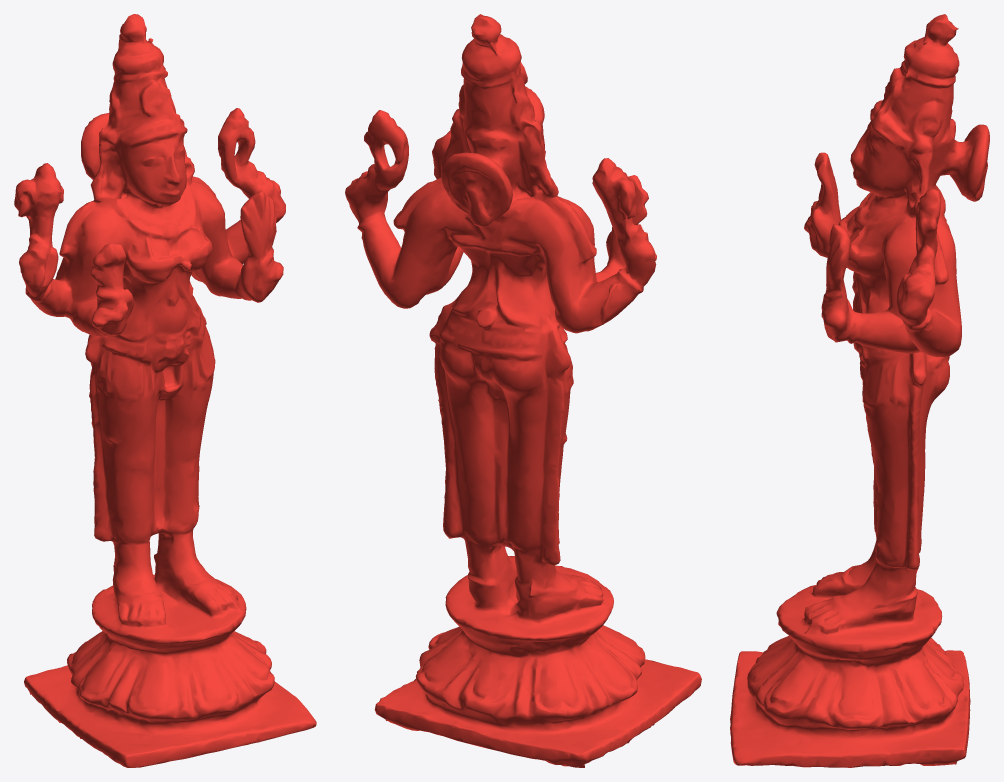
File: Amman_Kamakchi_03.glb
The picture shows the model from 3 angles, left to right: view 1: azimuth 30°, elevation 25°; view 2: azimuth 150°, elevation 25°; view 3: azimuth 270°, elevation 25°; orthographic projection. The views are drawn at different scales.
Visible parts, largest first — view 1: Amman_Kamakchi_03; view 2: Amman_Kamakchi_03; view 3: Amman_Kamakchi_03.
Part boxes in pixels (x1=…): Amman_Kamakchi_03: x1=14, y1=14, x2=316, y2=767; Amman_Kamakchi_03: x1=345, y1=14, x2=701, y2=767; Amman_Kamakchi_03: x1=730, y1=14, x2=989, y2=767.
Bounding box in the file's own units: 0.3725 × 0.8698 × 0.2903.
